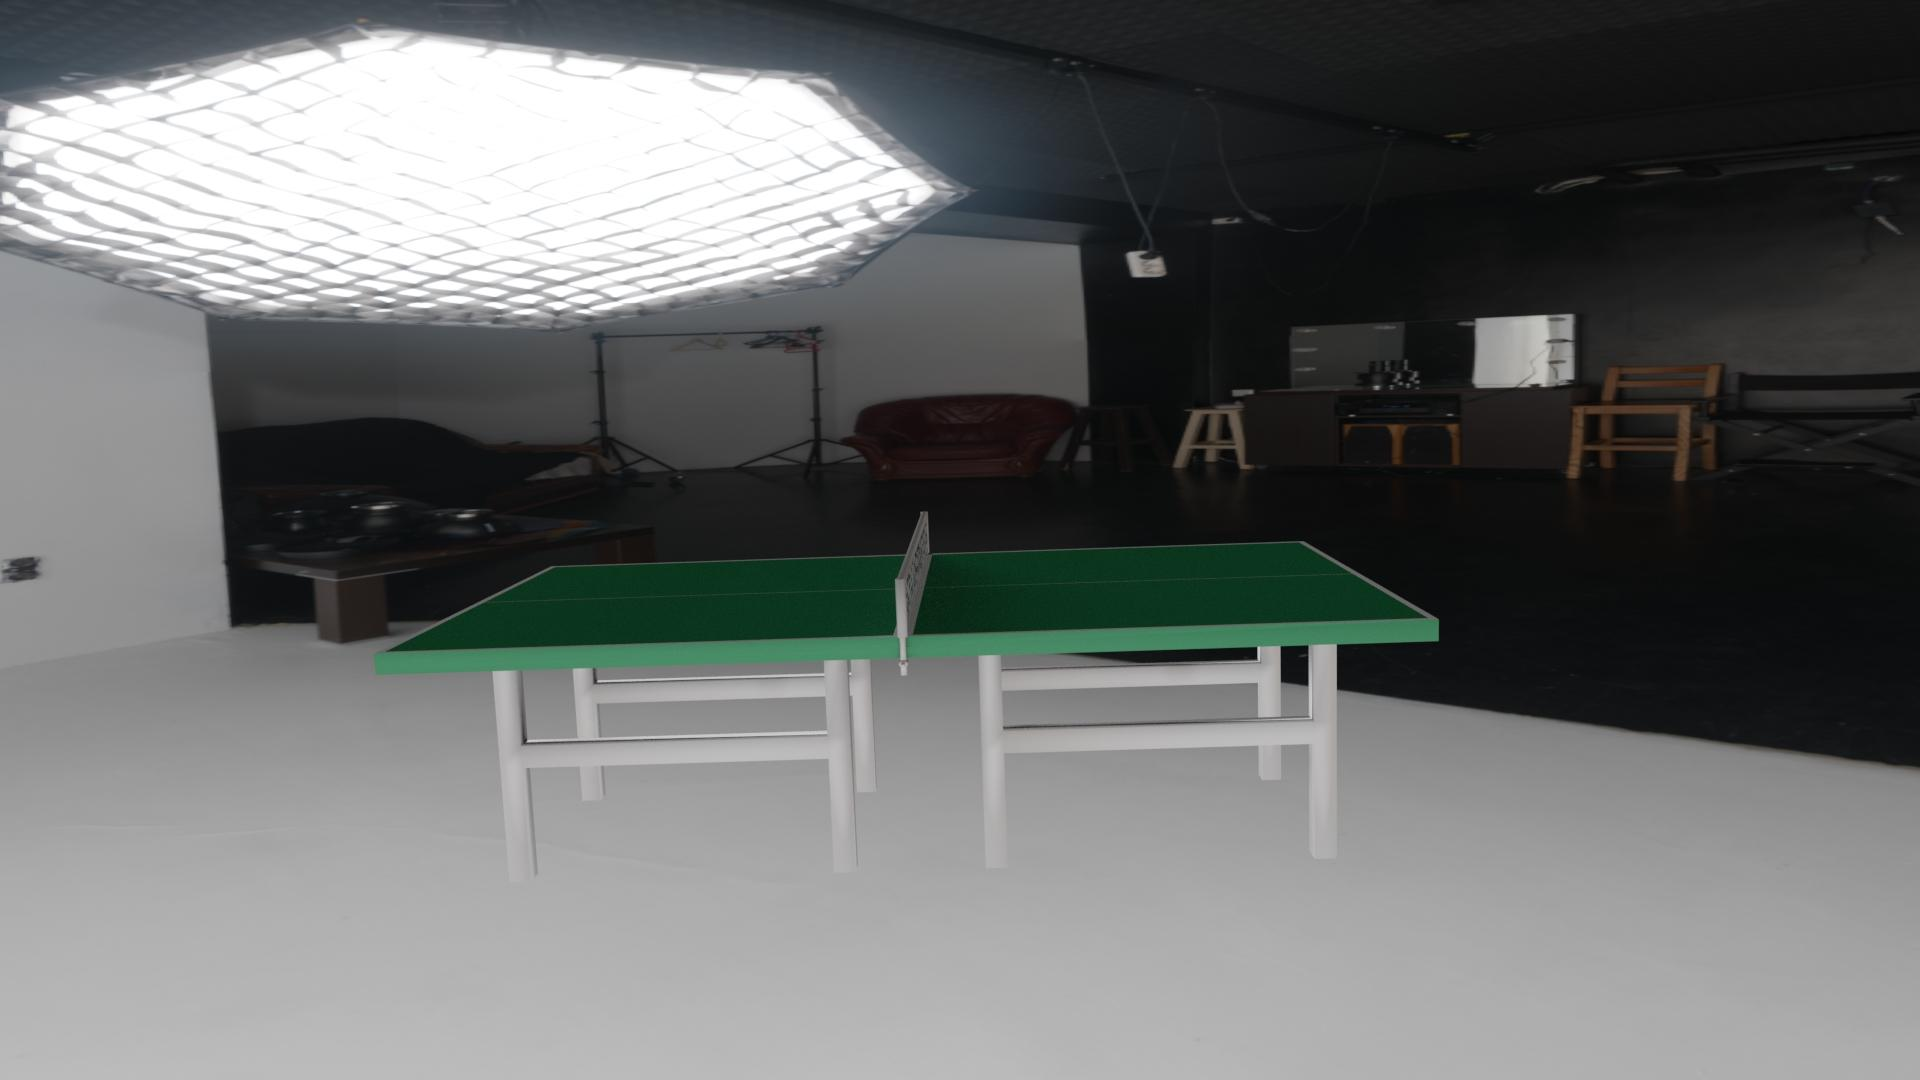table: (385, 542, 1428, 651)
